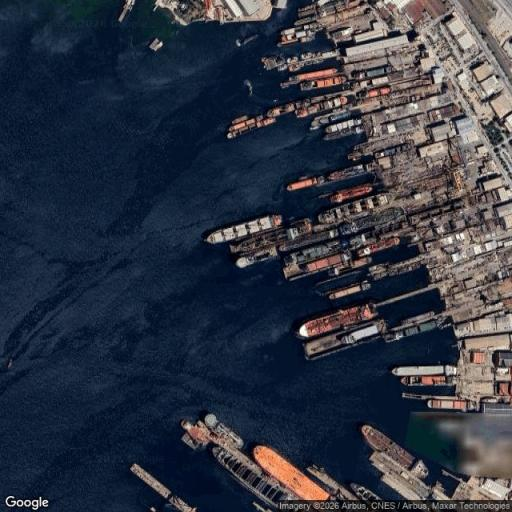ship: (212, 447, 297, 507), (253, 446, 331, 500), (303, 324, 379, 360), (297, 304, 376, 338), (231, 219, 312, 252), (362, 425, 414, 469), (287, 164, 367, 191), (206, 215, 282, 243), (319, 194, 387, 223), (284, 252, 350, 279), (340, 208, 403, 234), (284, 240, 346, 266), (205, 414, 244, 449), (279, 229, 338, 251), (385, 320, 443, 342), (295, 96, 349, 118), (280, 68, 338, 87), (227, 116, 275, 138), (266, 98, 313, 120), (236, 246, 278, 267), (310, 108, 350, 130), (328, 257, 371, 277), (358, 237, 399, 256), (330, 185, 372, 203), (328, 281, 370, 299), (183, 420, 210, 448), (392, 365, 456, 376), (328, 164, 367, 182), (300, 76, 346, 90), (287, 176, 326, 191), (428, 399, 475, 411), (401, 375, 452, 386), (351, 484, 382, 502), (326, 119, 362, 134), (261, 55, 287, 71), (361, 87, 390, 98), (236, 34, 258, 46), (282, 31, 306, 41), (280, 26, 302, 35), (295, 16, 317, 25), (297, 3, 316, 12), (299, 9, 316, 17), (244, 80, 252, 95), (302, 36, 315, 44)
